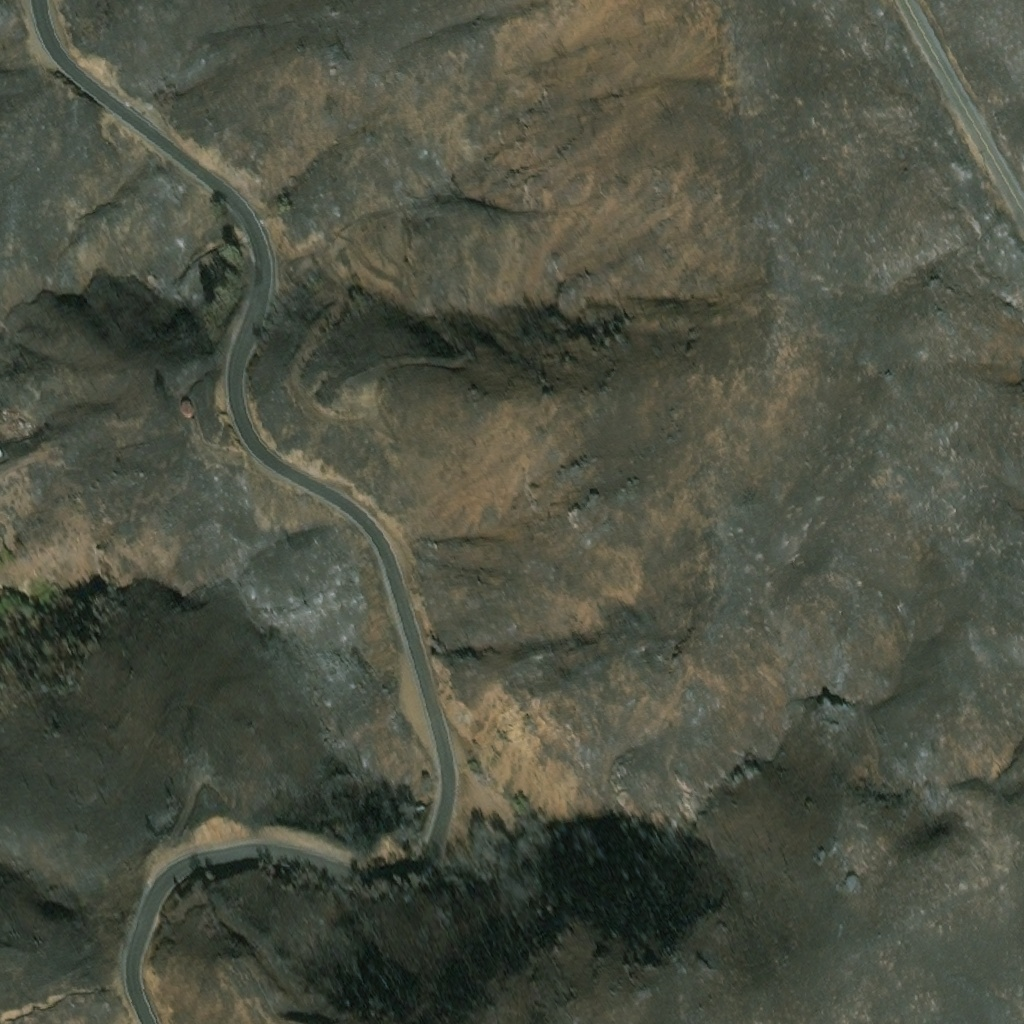1 minor-damage: (178, 398, 192, 413)
